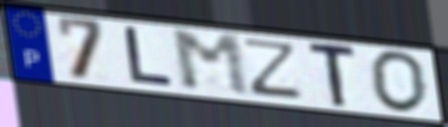7: (55, 13, 109, 83)
L: (121, 24, 176, 89)
M: (168, 28, 256, 99)
O: (366, 48, 431, 116)
T: (306, 42, 359, 109)
Z: (244, 36, 305, 101)
